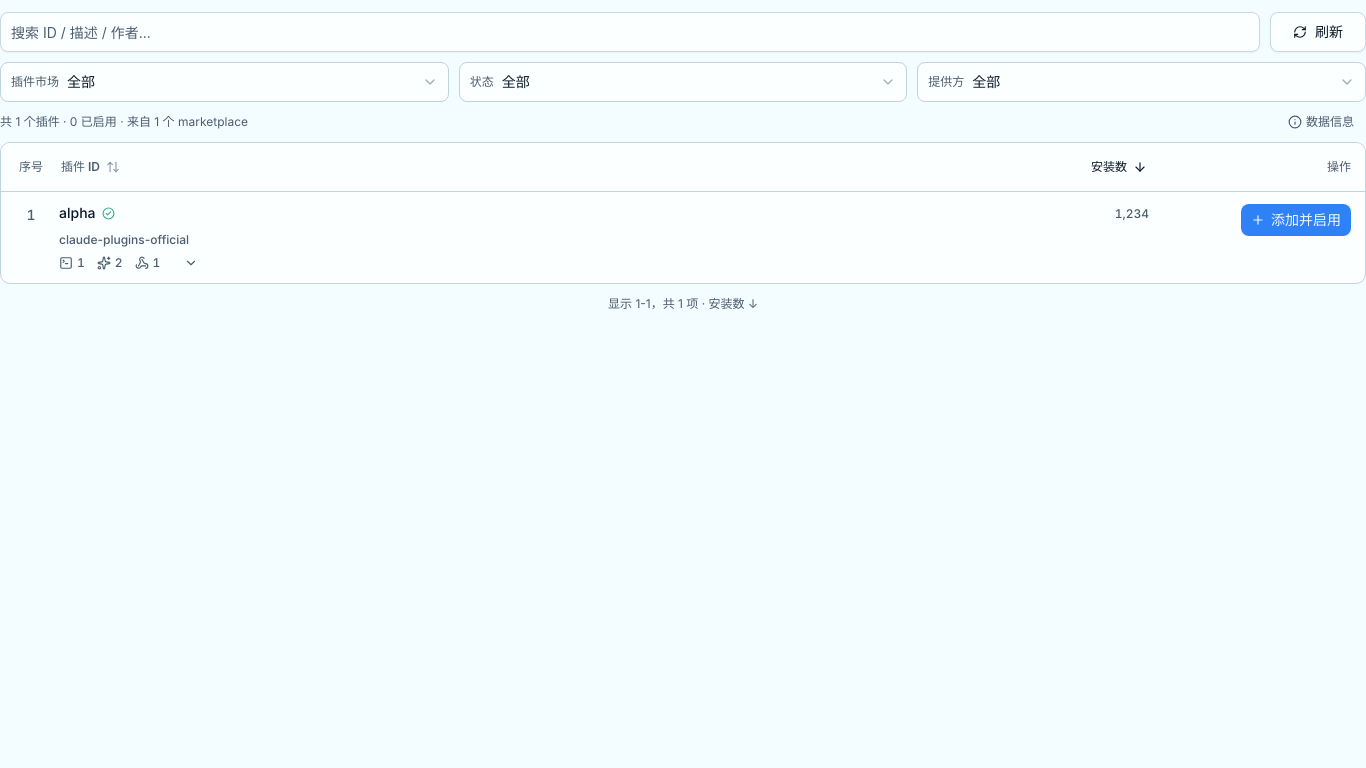
Test: BrowseMarketplaceTab › 官方插件展示组成徽标并可展开列出组件名
Expected: the text "alpha" is shown, top-left (59, 204), bottom-right (96, 224)
Expected: the text "skill-x" is not shown
Click the button named "展开插件组成" at (191, 263), box top-left (172, 256), bottom-right (210, 270)
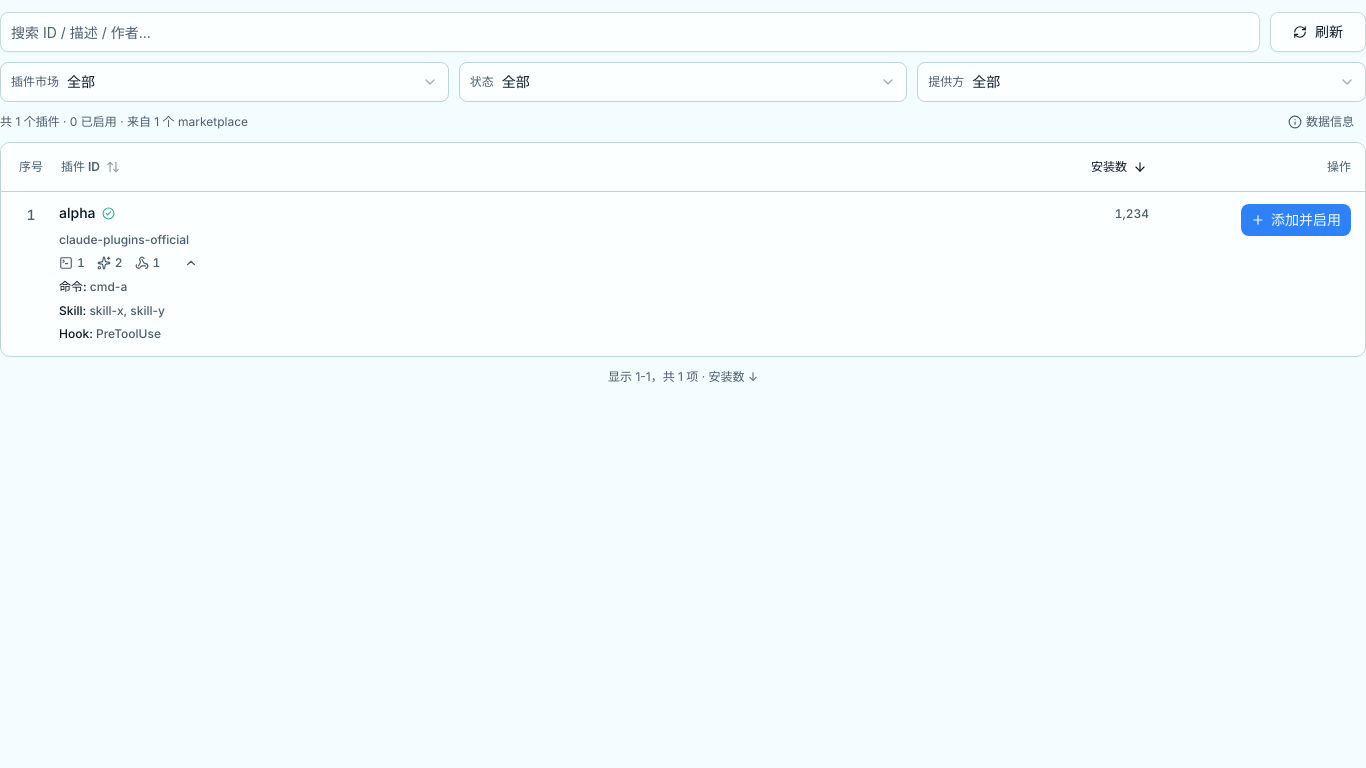
Now the text "Skill: skill-x, skill-y" is shown, box top-left (59, 303), bottom-right (165, 318)
# catalog 元信息 Popover 展示市场版本（短 sha）
Click the button with aria-label "查看官方插件数据信息" at (1321, 122), box top-left (1276, 114), bottom-right (1365, 130)
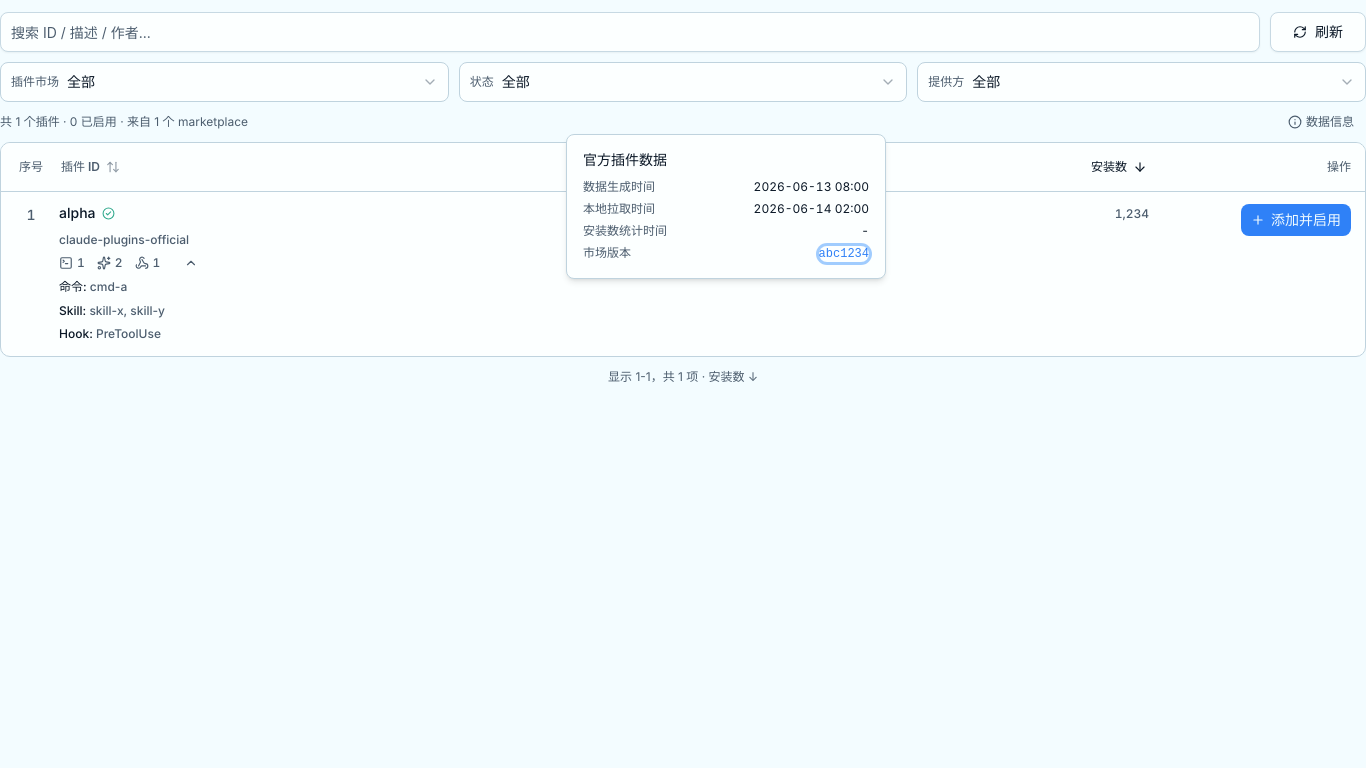
Now the text "官方插件数据" is shown, box top-left (583, 152), bottom-right (667, 169)
Now the button "abc1234" is shown, box top-left (819, 246), bottom-right (869, 262)
